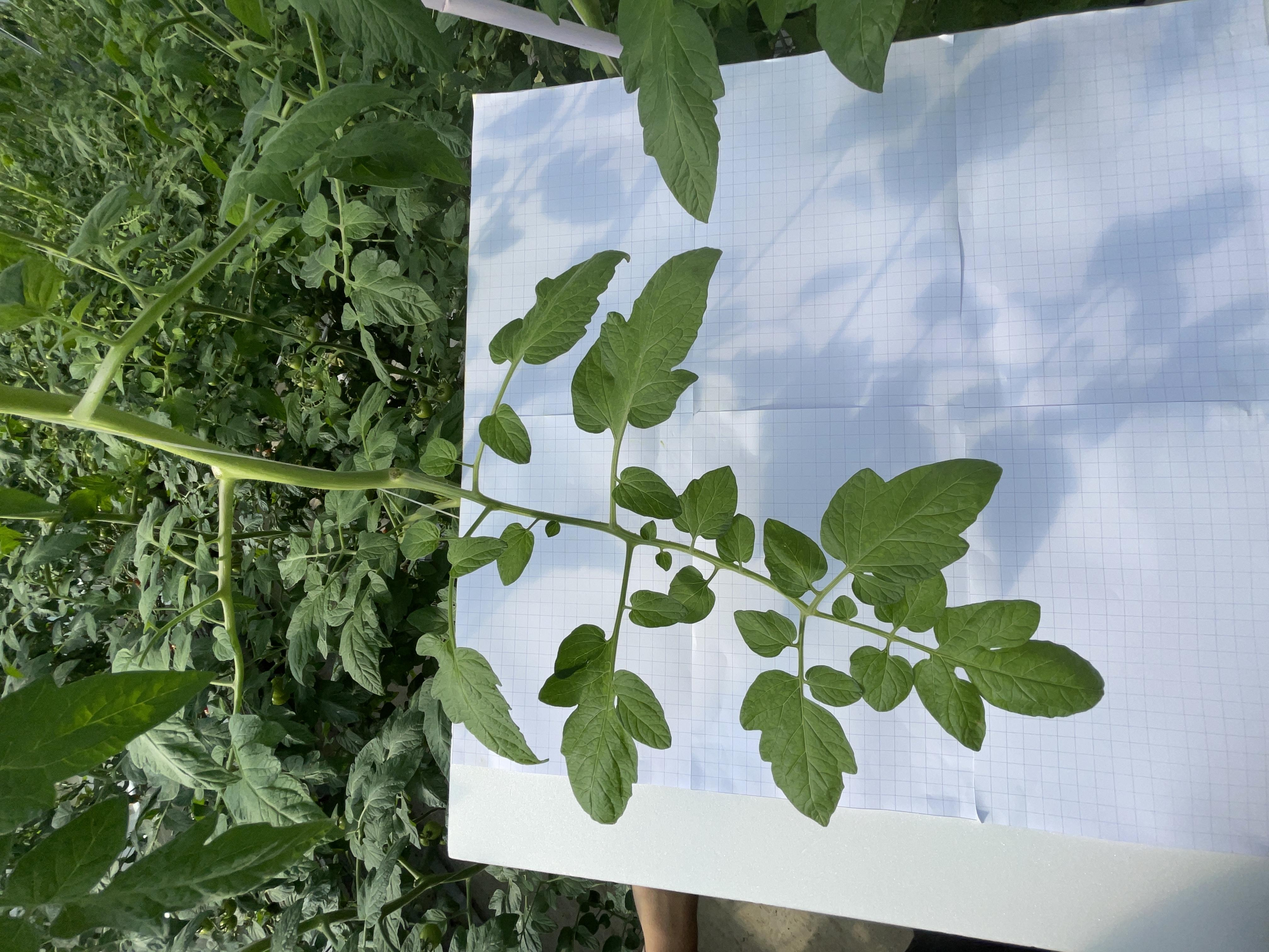Healthy: (14, 3, 212, 258), (156, 0, 377, 165), (267, 685, 470, 829), (690, 428, 941, 543), (168, 402, 439, 504), (462, 615, 659, 753), (972, 463, 1269, 544), (997, 181, 1159, 313), (165, 554, 384, 650), (248, 311, 438, 412), (782, 366, 938, 474), (141, 169, 318, 261), (1170, 215, 1269, 341), (217, 95, 321, 182), (831, 263, 937, 334), (470, 571, 580, 622), (31, 267, 159, 308), (549, 504, 651, 554), (340, 254, 483, 289), (427, 654, 511, 711), (182, 271, 275, 319), (321, 637, 408, 686), (352, 214, 488, 244), (576, 458, 648, 512), (1073, 178, 1183, 213), (224, 313, 365, 339), (650, 358, 732, 399), (392, 549, 457, 598), (505, 16, 559, 74), (746, 269, 830, 306), (497, 334, 555, 382), (438, 501, 515, 537), (650, 275, 728, 309), (1058, 249, 1099, 313), (487, 371, 573, 401), (514, 100, 608, 125), (432, 471, 483, 517), (1058, 318, 1120, 354), (680, 260, 762, 287), (884, 224, 961, 252), (196, 259, 285, 283), (258, 286, 322, 318), (519, 537, 586, 567), (675, 161, 725, 201), (949, 256, 1003, 292), (484, 208, 559, 232), (522, 299, 576, 331), (934, 192, 981, 226), (633, 313, 685, 343), (521, 266, 562, 300), (953, 225, 1012, 247), (424, 104, 489, 123), (530, 119, 598, 137), (424, 304, 459, 337), (763, 51, 808, 76), (678, 212, 747, 227), (387, 158, 435, 178), (952, 330, 1002, 349), (950, 296, 1017, 310), (507, 146, 557, 164), (463, 276, 509, 295), (572, 257, 610, 277), (493, 190, 529, 211), (394, 191, 445, 205), (435, 142, 493, 153), (475, 103, 531, 114), (559, 275, 605, 287), (1166, 104, 1204, 117), (829, 256, 866, 267), (456, 133, 502, 141), (541, 232, 579, 241), (498, 267, 522, 278), (557, 241, 578, 251)
